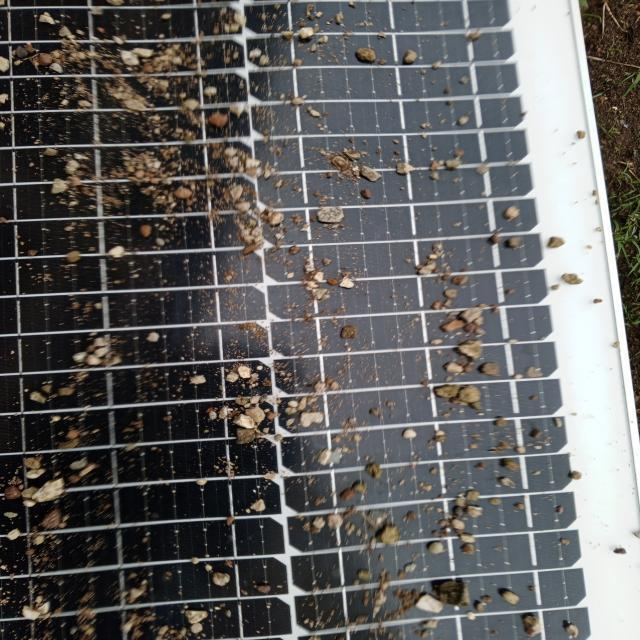Surface Contaminant: (8, 4, 561, 639)
